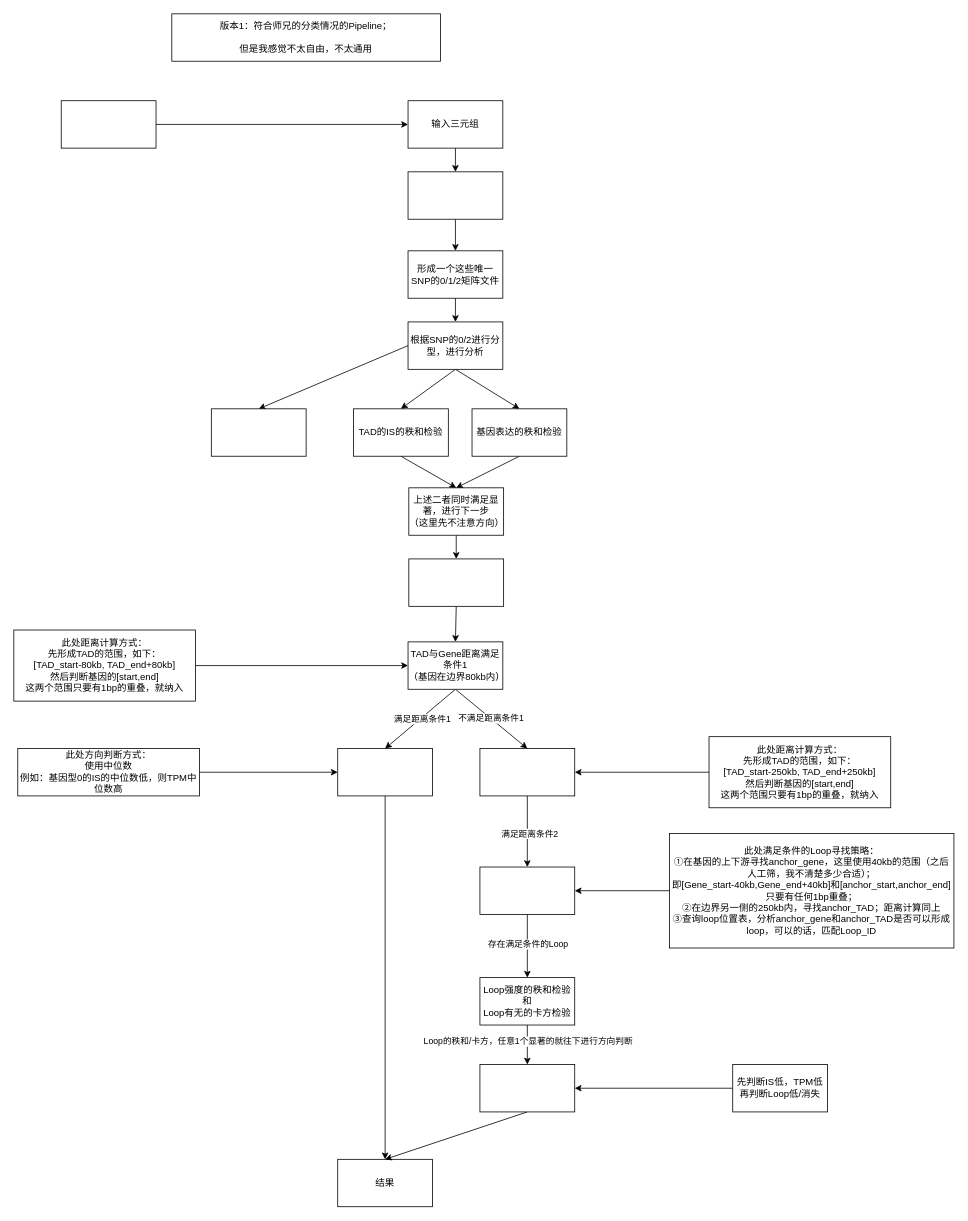
This 968x1221 diagram has some shape labels left out. The centre of each missing label's shape, as x and y in pixels:
"TAD与Gene距离满足条件2 （基因在边界80kb外，但在250kb内）" goes at point (527, 772).
"TAD的0-1的卡方检验 （这个只是输出，不作为过滤标准）" goes at point (258, 432).
"判断IS和表达的方向 （IS低，TPM高 反向）" goes at point (385, 772).
"判断基因表达、Loop、TAD的方向" goes at point (527, 1088).
"形成三元组" goes at point (108, 124).
"提取三元组中唯一的SNP" goes at point (455, 195).
"是否有满足条件的Loop存在" goes at point (527, 890).
"计算距离" goes at point (456, 582).
